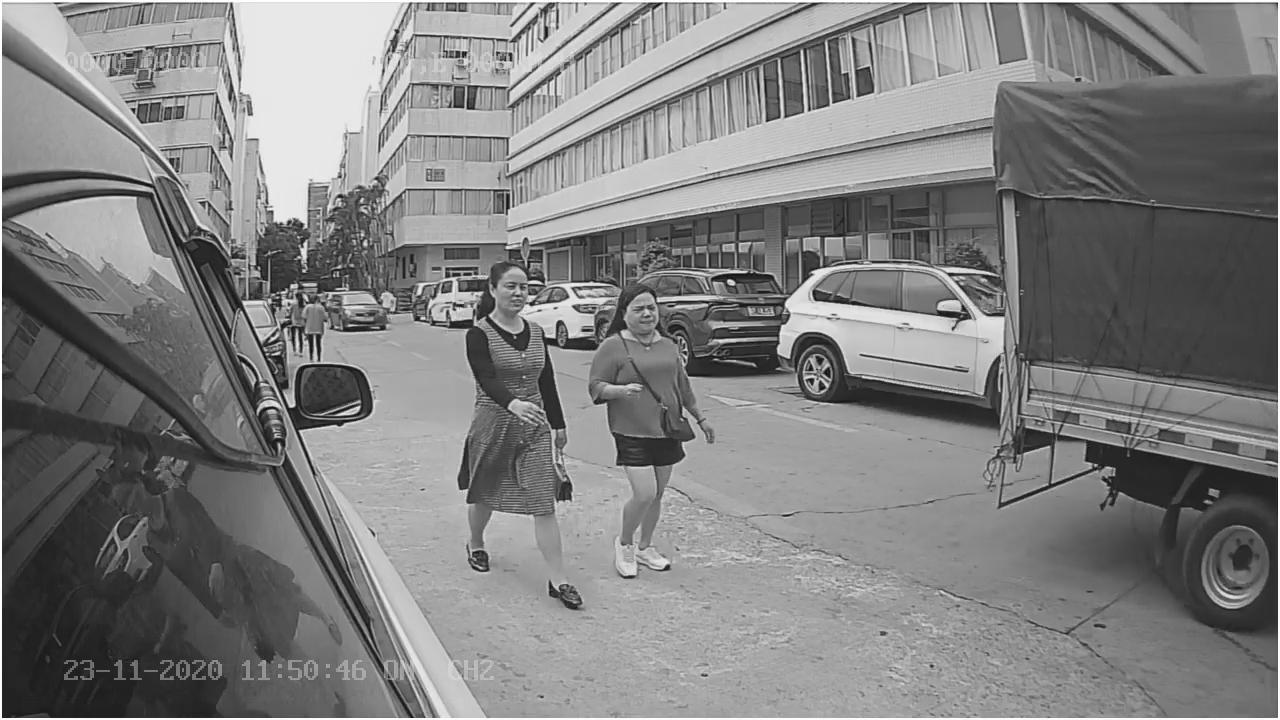person: (450, 263, 580, 609), (591, 277, 712, 583)
